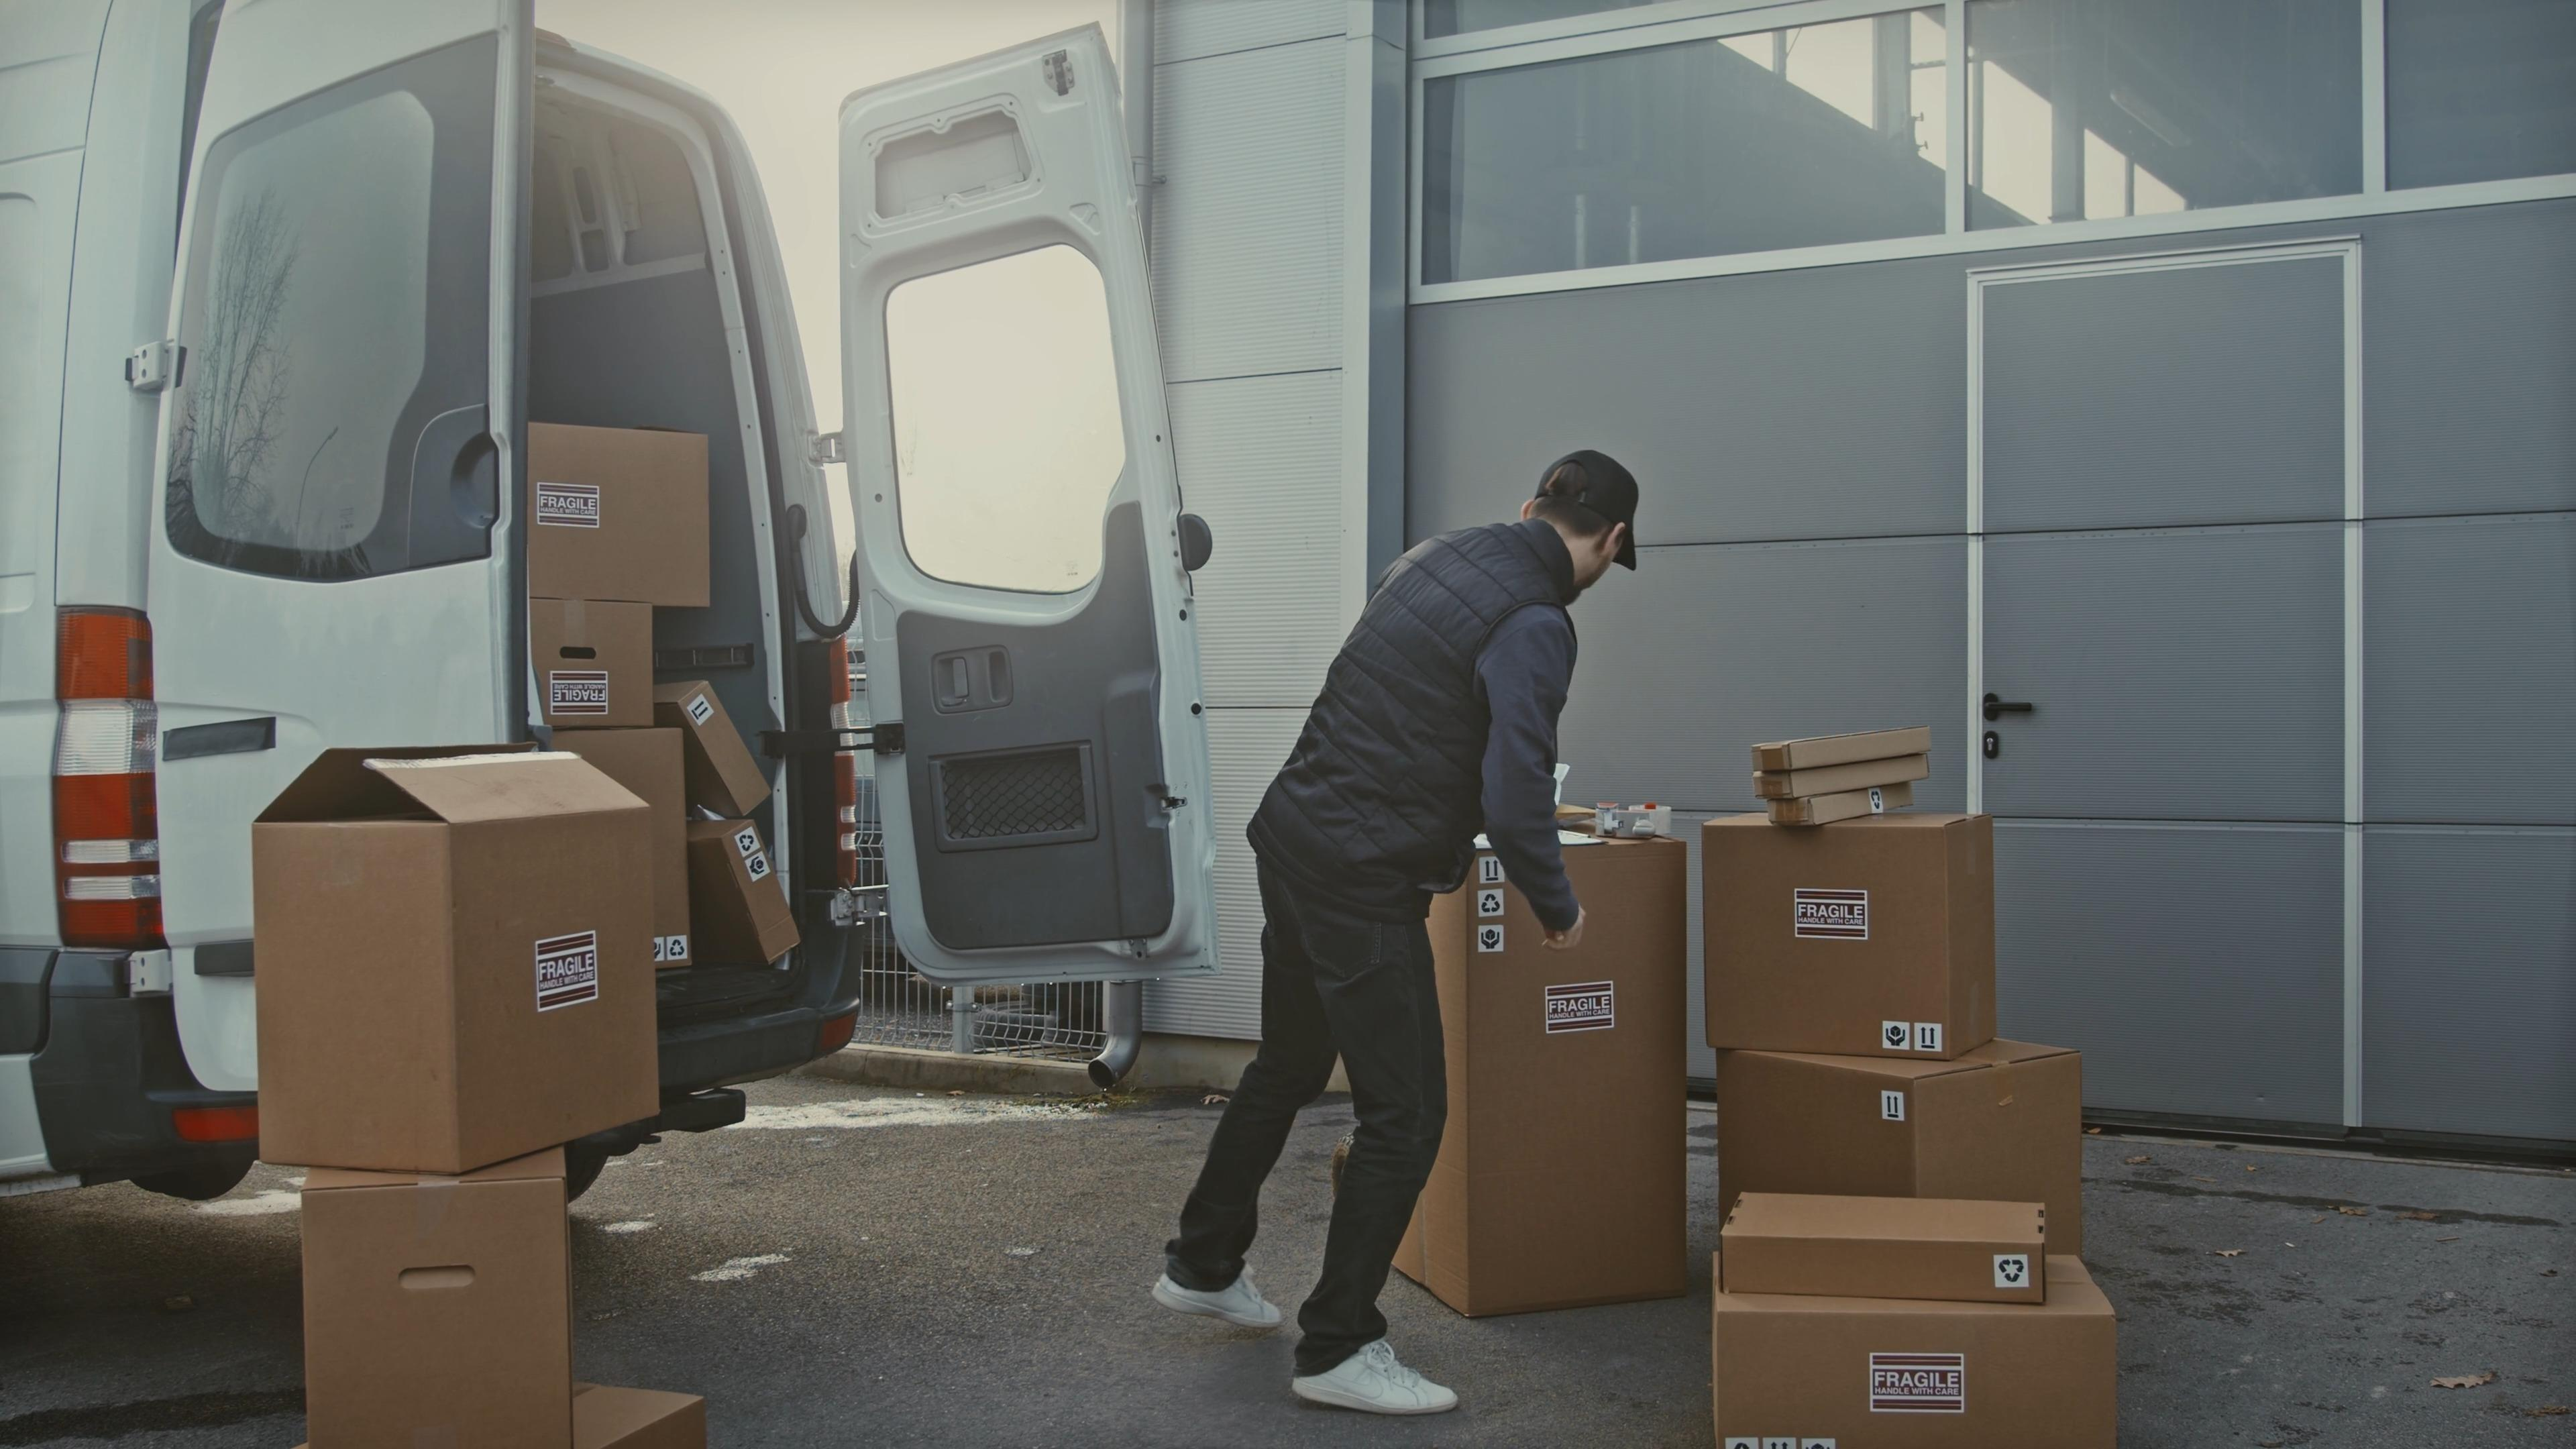-: (249, 736, 667, 1162), (1399, 823, 1683, 1323), (1704, 1246, 2116, 1449), (1702, 801, 1994, 1060), (317, 1164, 573, 1449), (1718, 1033, 2075, 1205), (517, 414, 702, 614), (1721, 1191, 2051, 1297), (533, 617, 660, 725)
